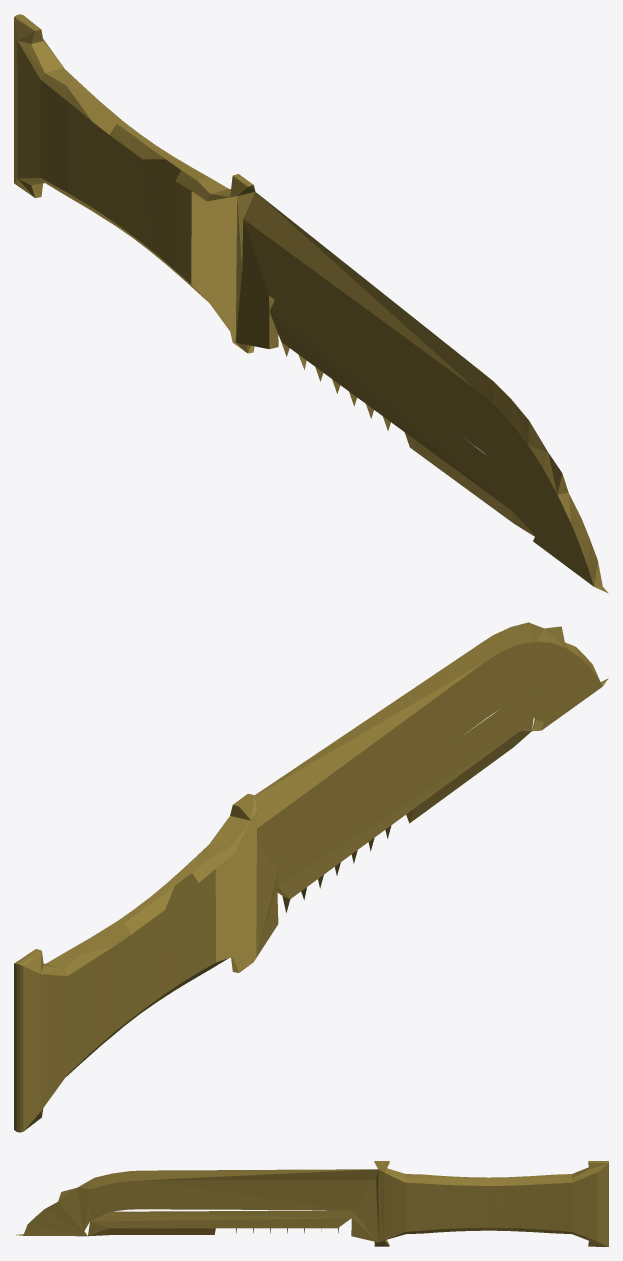
File: model_align.obj
3 views of the same model, one above another, from view 1: azimuth 30°, elevation 25°; view 2: azimuth 150°, elevation 25°; view 3: azimuth 270°, elevation 25° (orthographic). The views are drawn at different scales.
Size of the model in its own units: 0.00553 by 0.0325 by 0.2071.
